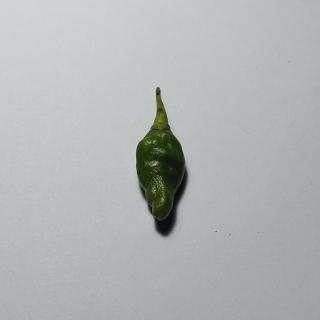Cabai Hijau: (129, 83, 199, 231)
